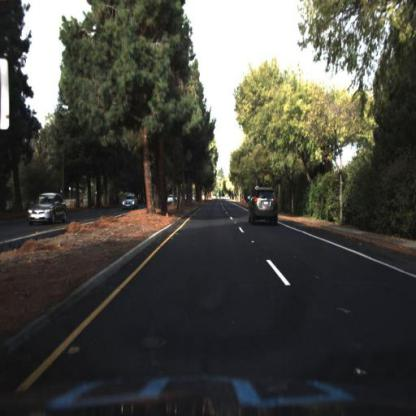car: (28, 192, 70, 229), (248, 190, 279, 230), (123, 190, 138, 217), (120, 193, 139, 213)
